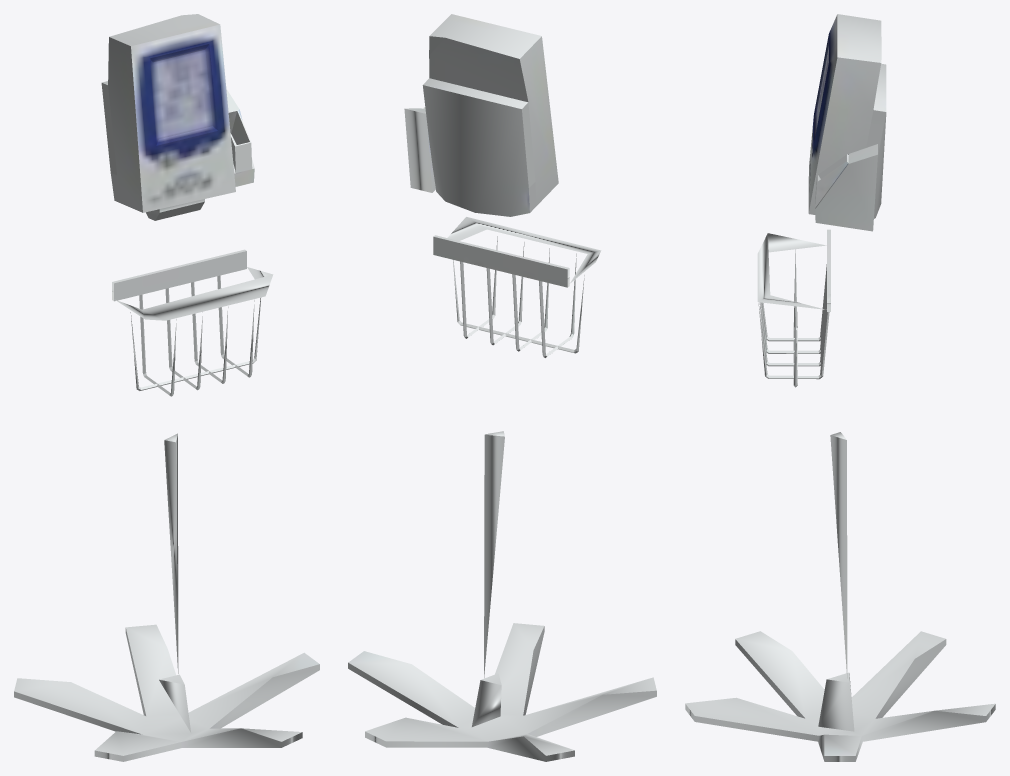
Rendered from vitals-monitor.lod0.glb.
3 views of the same model, side by side, from view 1: azimuth 30°, elevation 25°; view 2: azimuth 150°, elevation 25°; view 3: azimuth 270°, elevation 25° (orthographic).
Visible parts, largest first — view 1: defaultMaterial; view 2: defaultMaterial; view 3: defaultMaterial.
Part boxes in pixels (left/top/right/bottom): defaultMaterial: left=14, top=14, right=319, bottom=761; defaultMaterial: left=348, top=14, right=656, bottom=761; defaultMaterial: left=685, top=14, right=995, bottom=761.
Size of the model in its own units: 0.5759 by 1.49 by 0.6056.
Materials: 1 (1 with a texture image).
